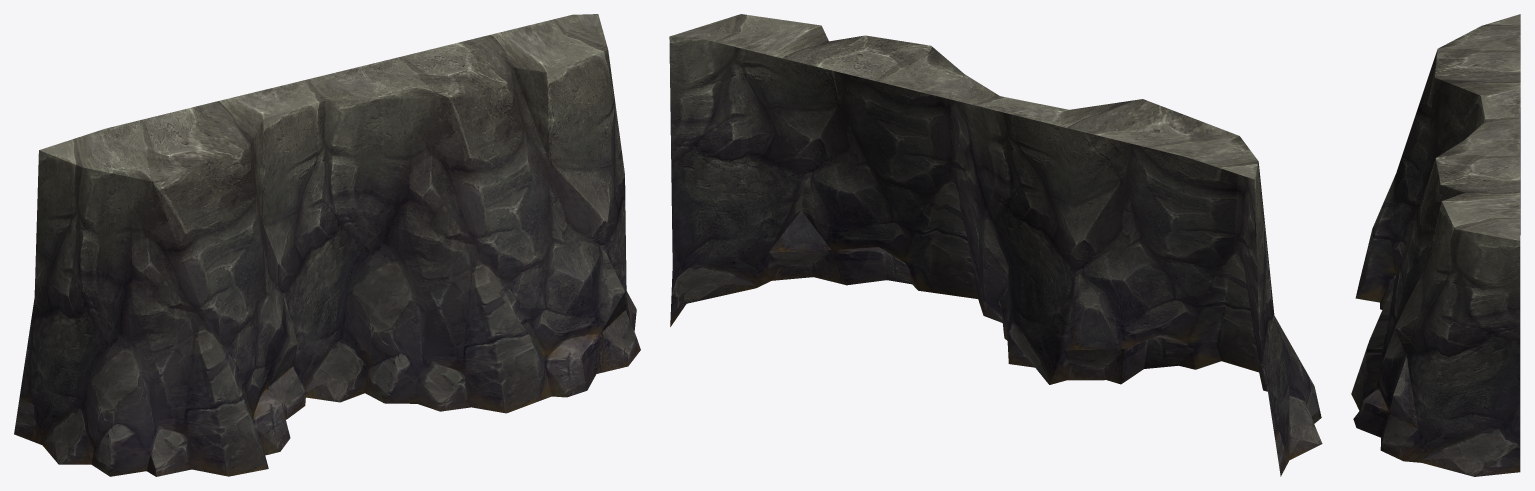
The model's file is common_underground_dongxueshitou02.FBX.
3 renders of one model, left to right at view 1: azimuth 30°, elevation 25°; view 2: azimuth 150°, elevation 25°; view 3: azimuth 270°, elevation 25°, orthographic. The views are drawn at different scales.
Parts seen in each view (by area): view 1: common_underground_dongxueshitou02; view 2: common_underground_dongxueshitou02; view 3: common_underground_dongxueshitou02.
Boxes of the visible parts, x1,y1,x2,y2 form: common_underground_dongxueshitou02: (14,14,640,476); common_underground_dongxueshitou02: (669,14,1322,476); common_underground_dongxueshitou02: (1351,14,1520,476).
Bounding box in the file's own units: 15.98 × 7.27 × 4.74.
